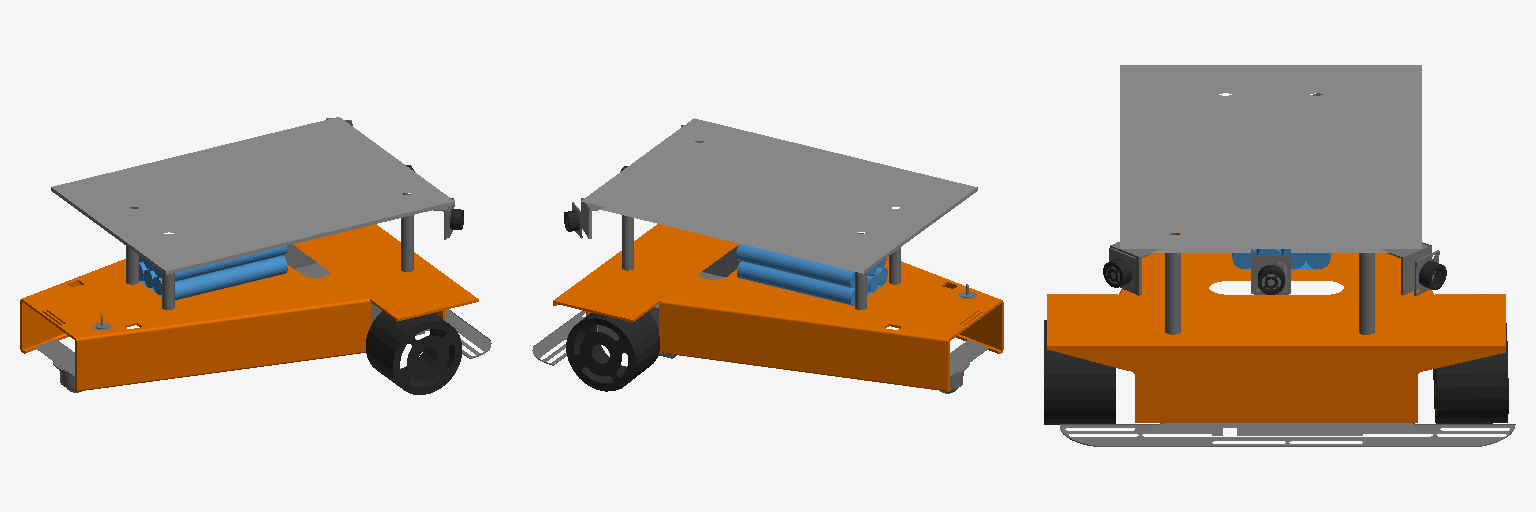
URDF robot description (stingbot):
<?xml version="1.0"?>
<robot name="stingbot">
  
	<link name="base_link">
    <inertial>
      <origin
        xyz="0 0 0"
        rpy="0 0 0" />
      <mass
        value="0" />
      <inertia
        ixx="0"
        ixy="0"
        ixz="0"
        iyy="0"
        iyz="0"
        izz="0" />
    </inertial>
    <visual>
      <origin
        xyz="0 0 0"
        rpy="0 0 3.1415" />
      <geometry>
        <mesh filename="package://mrl_robots_description/mesh/stingbot_parts/chasis.stl" scale="0.002 0.002 0.002" />
      </geometry>
      <material name="">
        <color rgba="0.933 0.463 0.0 1.0" />
      </material>
    </visual>
    <collision>
      <origin
        xyz="0 0 0"
        rpy="0 0 3.1415" />
      <geometry>
        <mesh filename="package://mrl_robots_description/mesh/stingbot_parts/chasis.stl" scale="0.002 0.002 0.002" />
      </geometry>
    </collision>
  </link>  
  
  
  
  
 <link
    name="acrylic">
    <inertial>
      <origin
        xyz="0 0 0"
        rpy="0 0 0" />
      <mass
        value="0" />
      <inertia
        ixx="0"
        ixy="0"
        ixz="0"
        iyy="0"
        iyz="0"
        izz="0" />
    </inertial>
    <visual>
      <origin
        xyz="0 0 0"
        rpy="0 0 3.1415" />
      <geometry>
        <mesh
          filename="package://mrl_robots_description/mesh/stingbot_parts/acrylic.stl" scale="0.002 0.002 0.002"/>
      </geometry>
      <material
        name="">
        <color
          rgba="0.6 0.6 0.6 0.35" />
      </material>
    </visual>
    <collision>
      <origin
        xyz="0 0 0"
        rpy="0 0 3.1415" />
      <geometry>
        <mesh
          filename="package://mrl_robots_description/mesh/stingbot_parts/acrylic.stl" scale="0.002 0.002 0.002"/>
      </geometry>
    </collision>
  </link>  
  
  
    	<joint name="chassis_acrylic_joint" type="fixed">
		<origin xyz="0 0 0" rpy="0 0 0"/>
		<parent link="base_link"/>
		<child link="acrylic"/>
	</joint>
  
  
  
  
  <link
    name="batteries">
    <inertial>
      <origin
        xyz="0 0 0"
        rpy="0 0 0" />
      <mass
        value="0" />
      <inertia
        ixx="0"
        ixy="0"
        ixz="0"
        iyy="0"
        iyz="0"
        izz="0" />
    </inertial>
    <visual>
      <origin
        xyz="0 0 0"
        rpy="0 0 3.1415" />
      <geometry>
        <mesh
          filename="package://mrl_robots_description/mesh/stingbot_parts/batteries.stl" scale="0.002 0.002 0.002"/>
      </geometry>
      <material
        name="">
        <color
          rgba="0.309 0.580 0.804 1.0" /> 
	  </material>
    </visual>
    <collision>
      <origin
        xyz="0 0 0"
        rpy="0 0 3.1415" />
      <geometry>
        <mesh
          filename="package://mrl_robots_description/mesh/stingbot_parts/batteries.stl" scale="0.002 0.002 0.002"/>
      </geometry>
    </collision>
  </link>
  
    
    	<joint name="chassis_batteries_joint" type="fixed">
		<origin xyz="0 0 0" rpy="0 0 0"/>
		<parent link="base_link"/>
		<child link="batteries"/>
	</joint>
  
  
    <link
    name="metals">
    <inertial>
      <origin
        xyz="0 0 0"
        rpy="0 0 0" />
      <mass
        value="0" />
      <inertia
        ixx="0"
        ixy="0"
        ixz="0"
        iyy="0"
        iyz="0"
        izz="0" />
    </inertial>
    <visual>
      <origin
        xyz="0 0 0"
        rpy="0 0 3.1415" />
      <geometry>
        <mesh
          filename="package://mrl_robots_description/mesh/stingbot_parts/metals.stl" scale="0.002 0.002 0.002" />
      </geometry>
      <material
        name="">
          <color rgba="0.5 0.5 0.5 1.0" />
      </material>
    </visual>
    <collision>
      <origin
        xyz="0 0 0"
        rpy="0 0 3.1415" />
      <geometry>
        <mesh
          filename="package://mrl_robots_description/mesh/stingbot_parts/metals.stl" scale="0.002 0.002 0.002"/>
      </geometry>
    </collision>
  </link>
  
  
    	<joint name="chassis_metals_joint" type="fixed">
		<origin xyz="0 0 0" rpy="0 0 0"/>
		<parent link="base_link"/>
		<child link="metals"/>
	</joint>  
  
  
  
 <link
    name="wheels_sonars">
    <inertial>
      <origin
        xyz="0 0 0"
        rpy="0 0 0" />
      <mass
        value="0" />
      <inertia
        ixx="0"
        ixy="0"
        ixz="0"
        iyy="0"
        iyz="0"
        izz="0" />
    </inertial>
    <visual>
      <origin
        xyz="0 0 0"
        rpy="0 0 3.1415" />
      <geometry>
        <mesh
          filename="package://mrl_robots_description/mesh/stingbot_parts/wheels_sonars.stl" scale="0.002 0.002 0.002"/>
      </geometry>
      <material
        name="">
        <color rgba="0.2 0.2 0.2 1.0" />
      </material>
    </visual>
    <collision>
      <origin
        xyz="0 0 0"
        rpy="0 0 3.1415" />
      <geometry>
        <mesh
          filename="package://mrl_robots_description/mesh/stingbot_parts/wheels_sonars.stl" scale="0.002 0.002 0.002"/>
      </geometry>
    </collision>
  </link>  
  
  
      	<joint name="chassis_wheels_joint" type="fixed">
		<origin xyz="0 0 0" rpy="0 0 0"/>
		<parent link="base_link"/>
		<child link="wheels_sonars"/>
	</joint>  
  

</robot>

--- Render facts (derived) ---
Views: 3 orthographic renders of the robot side by side, from view 1: azimuth 30°, elevation 25°; view 2: azimuth 150°, elevation 25°; view 3: azimuth 270°, elevation 25°.
Robot: stingbot — 5 links, 4 joints (4 fixed); root link base_link; default pose: all joints at 0.
Visible links, largest first — view 1: base_link, acrylic, wheels_sonars, metals, batteries; view 2: base_link, acrylic, wheels_sonars, metals, batteries; view 3: acrylic, base_link, metals, wheels_sonars, batteries.
Boxes of the visible links, <box> form: base_link: <box>20,224,478,391</box>; acrylic: <box>51,117,454,274</box>; wheels_sonars: <box>366,165,463,394</box>; metals: <box>35,118,491,392</box>; batteries: <box>139,246,287,299</box>; base_link: <box>553,224,1003,391</box>; acrylic: <box>581,118,977,273</box>; wheels_sonars: <box>564,166,659,391</box>; metals: <box>532,125,988,393</box>; batteries: <box>736,244,887,305</box>; acrylic: <box>1120,65,1431,291</box>; base_link: <box>1047,233,1505,422</box>; metals: <box>1060,93,1515,446</box>; wheels_sonars: <box>1044,258,1508,424</box>; batteries: <box>1232,249,1330,269</box>.
Size in the robot's own frame: 0.2526 by 0.2116 by 0.1023 metres.
Meshes: 5 distinct files referenced, 5 mesh visuals loaded (5 binary STL).